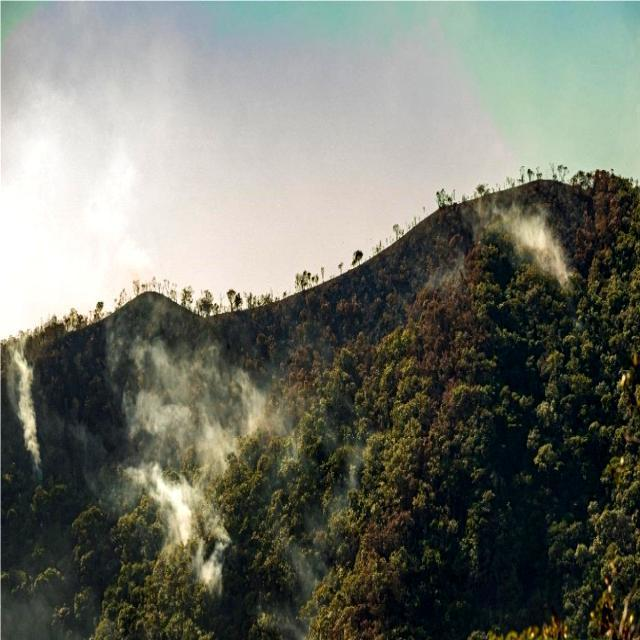Smoke: (126, 324, 299, 590), (483, 194, 576, 296), (4, 330, 49, 472)
